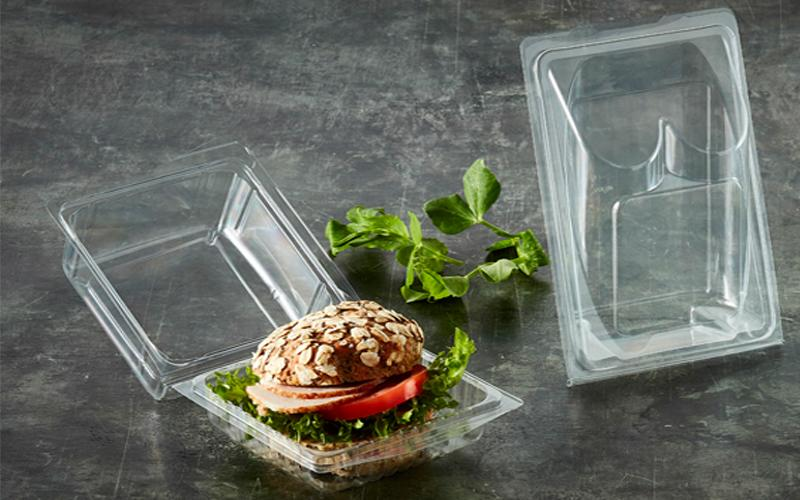PlasticBox: (514, 3, 787, 393)
